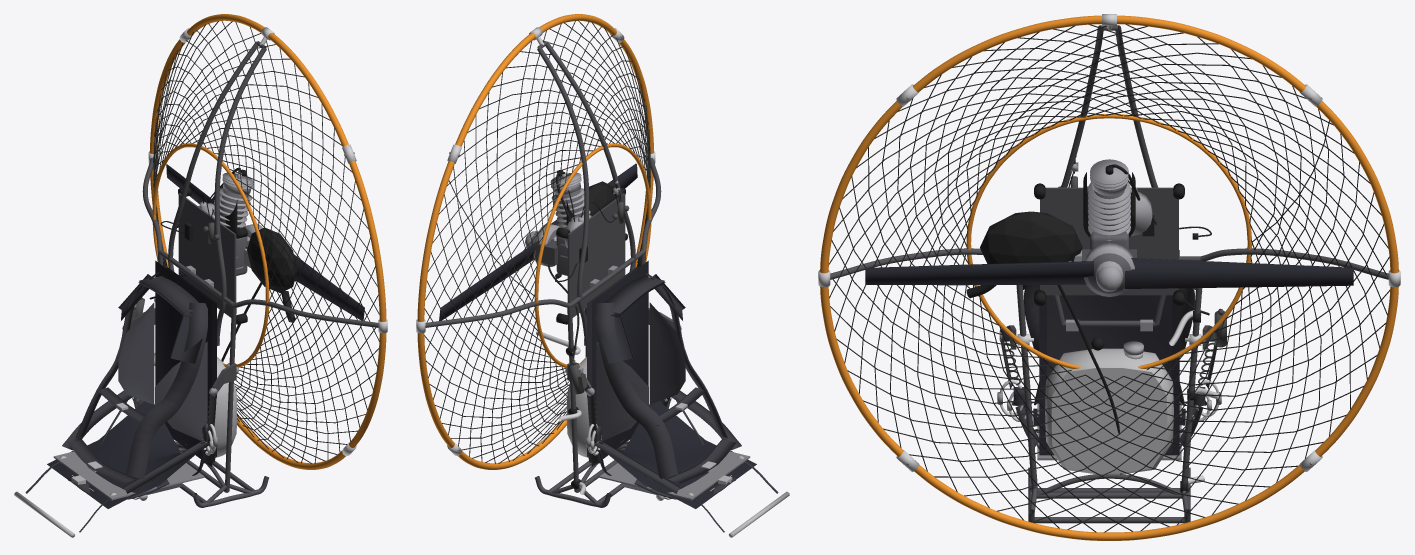
The model's file is ParamotorTestFrame.fbx.
The picture shows the model from 3 angles, left to right: view 1: azimuth 30°, elevation 25°; view 2: azimuth 150°, elevation 25°; view 3: azimuth 270°, elevation 25°; orthographic projection. The views are drawn at different scales.
Parts seen in each view (by area): view 1: ParamotorTestFrame; view 2: ParamotorTestFrame; view 3: ParamotorTestFrame.
Part boxes in pixels (<box>): ParamotorTestFrame: <box>14,14,387,537</box>; ParamotorTestFrame: <box>416,14,789,537</box>; ParamotorTestFrame: <box>818,14,1400,540</box>.
Size of the model in its own units: 0.863 by 1.49 by 1.55.
